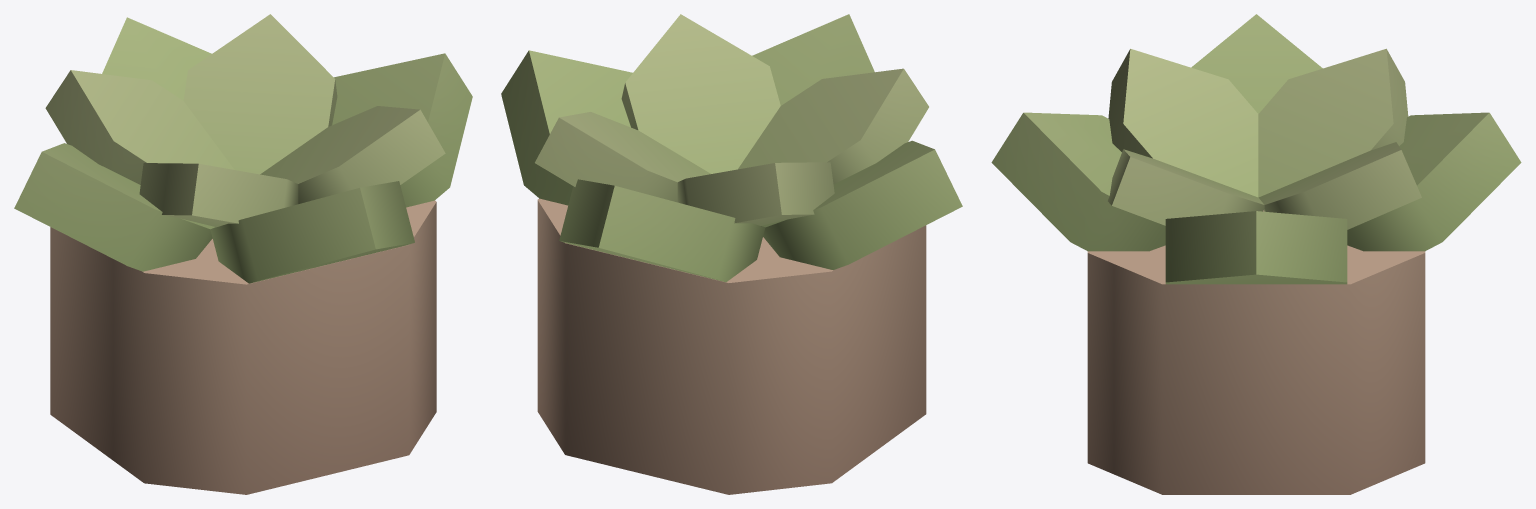
The model's file is plant-small-succulent.glb.
The picture shows the model from 3 angles, left to right: view 1: azimuth 30°, elevation 25°; view 2: azimuth 150°, elevation 25°; view 3: azimuth 270°, elevation 25°; orthographic projection.
Visible parts, largest first — view 1: plant-small-succulent; view 2: plant-small-succulent; view 3: plant-small-succulent.
Part boxes in pixels (x1,y1,x2,y2): plant-small-succulent: [14, 14, 472, 494]; plant-small-succulent: [501, 14, 962, 494]; plant-small-succulent: [991, 14, 1521, 494].
Bounding box in the file's own units: 0.295 × 0.1979 × 0.295.
